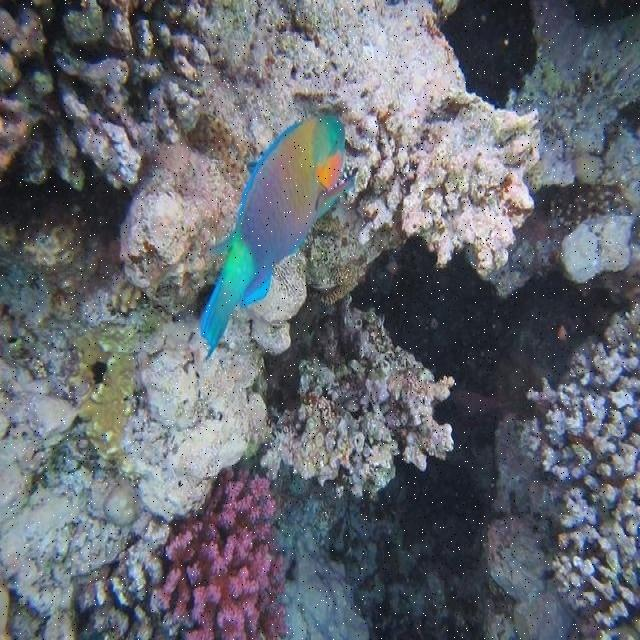fish: (197, 118, 358, 353)
reefs: (490, 307, 639, 639), (0, 0, 203, 190), (78, 474, 291, 639)
